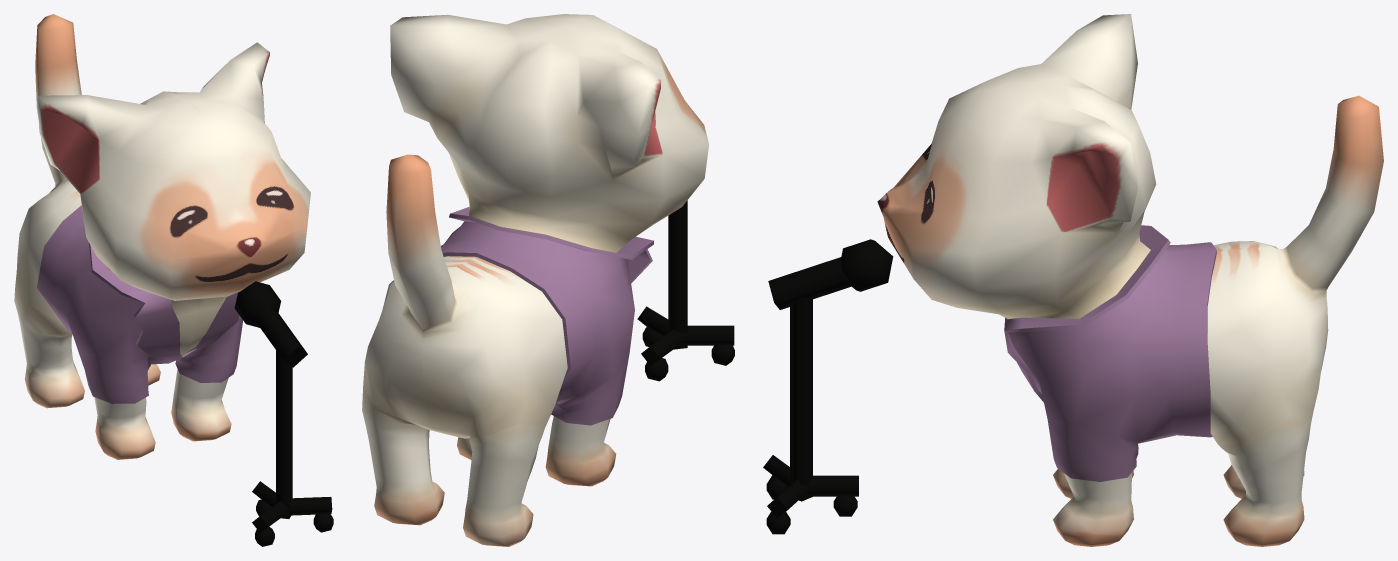
The model's file is Singer Cat02.fbx.
The picture shows the model from 3 angles, left to right: view 1: azimuth 30°, elevation 25°; view 2: azimuth 150°, elevation 25°; view 3: azimuth 270°, elevation 25°; orthographic projection. The views are drawn at different scales.
Parts seen in each view (by area): view 1: Cat_Base001, TS_Cat_Shirt, Singer_Cat_Mic; view 2: Cat_Base001, TS_Cat_Shirt, Singer_Cat_Mic; view 3: Cat_Base001, TS_Cat_Shirt, Singer_Cat_Mic.
Boxes of the visible parts, <box> form: Cat_Base001: <box>14,14,310,459</box>; TS_Cat_Shirt: <box>36,205,242,403</box>; Singer_Cat_Mic: <box>234,281,333,546</box>; Cat_Base001: <box>362,14,709,546</box>; TS_Cat_Shirt: <box>441,206,653,425</box>; Singer_Cat_Mic: <box>637,200,734,381</box>; Cat_Base001: <box>877,14,1383,546</box>; TS_Cat_Shirt: <box>1004,225,1216,481</box>; Singer_Cat_Mic: <box>763,239,893,534</box>.
Size of the model in its own units: 1.75 by 3.47 by 2.68.
4 materials, 1 textured.
